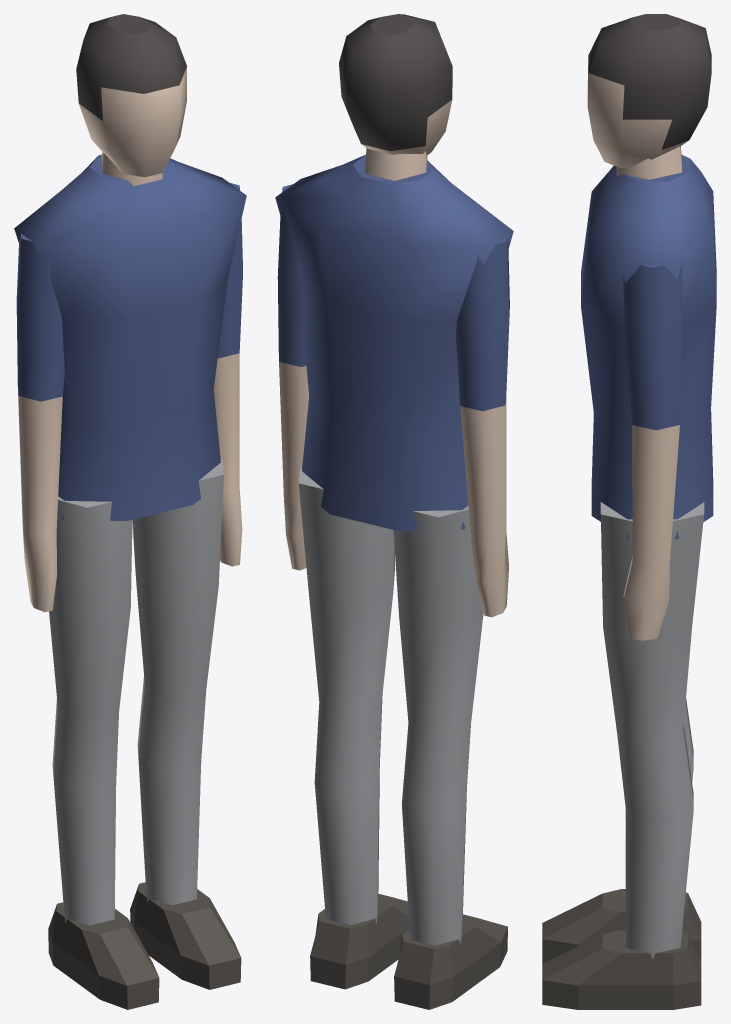
Rendered from pedestrian_0.fbx.
3 views of the same model, side by side, from view 1: azimuth 30°, elevation 25°; view 2: azimuth 150°, elevation 25°; view 3: azimuth 270°, elevation 25° (orthographic). The views are drawn at different scales.
Parts seen in each view (by area): view 1: pedestrian_0; view 2: pedestrian_0; view 3: pedestrian_0.
Part boxes in pixels (<box>): pedestrian_0: <box>14,14,246,1009</box>; pedestrian_0: <box>275,14,513,1009</box>; pedestrian_0: <box>542,14,716,1009</box>.
Bounding box in the file's own units: 0.434 × 1.72 × 0.2849.
